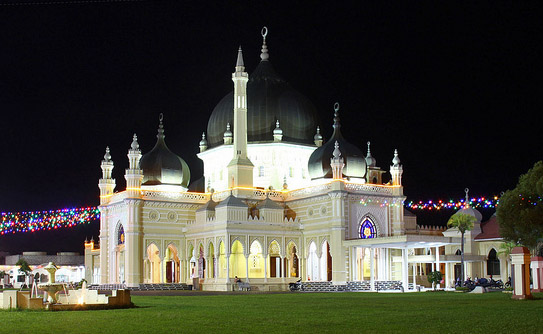Mosque: (88, 21, 410, 293)
